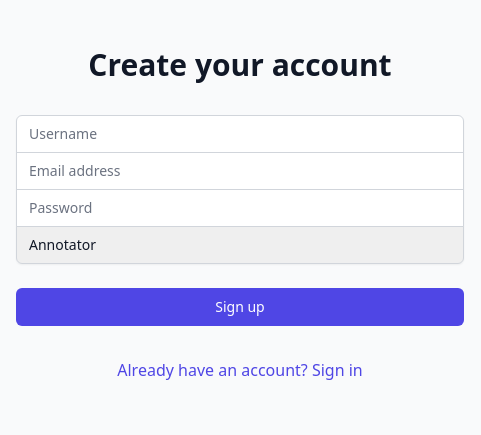
Test: Register Component › Registration Functionality › handles registration errors
Type "testuser" into the field labelled "Username". click: [240, 134]
box: [16,114,464,152]
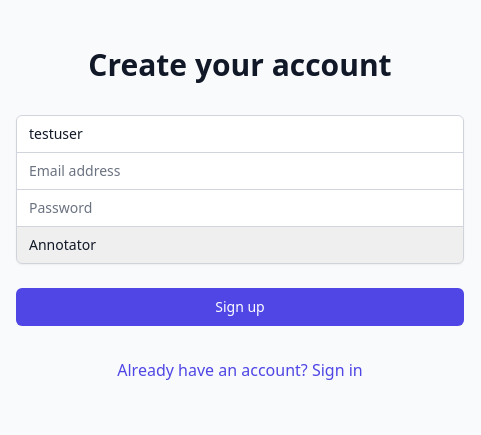
Type "test@example.com" into the field labelled "Email address". click: [240, 170]
box: [16,152,464,190]
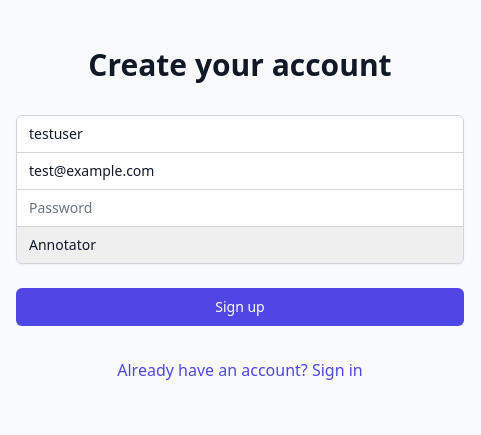
Type "password123" into the password field labelled "Password". click: [240, 208]
box: [16,188,464,226]
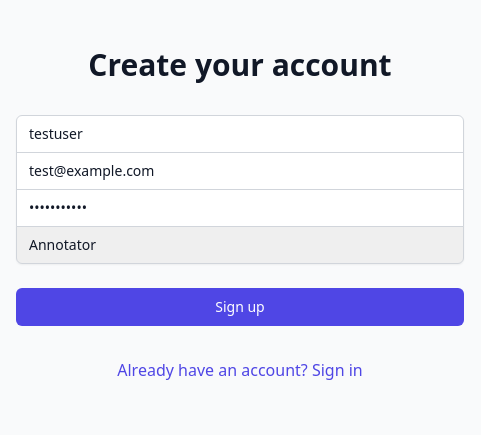
Select "Annotator" in the dropdown named "role". click: [240, 244]
box: [16,226,464,264]
Click the button "Sign up". click: [240, 306]
box: [16,288,464,326]
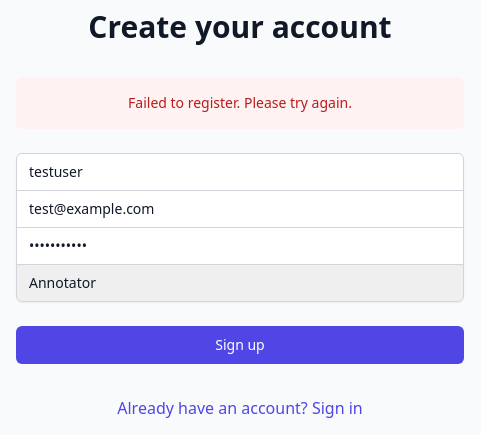
Result: the text "Failed to register. Please try again." is shown at [128,92,352,112]
